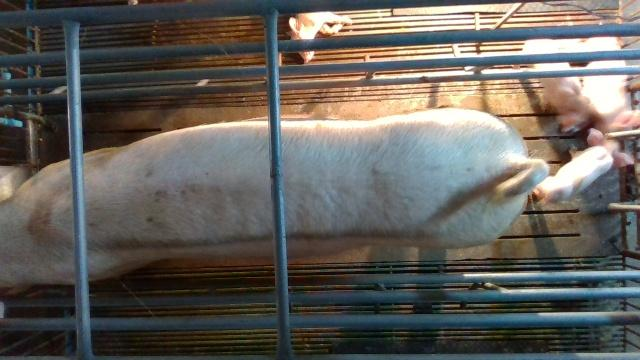piglet: (536, 128, 635, 204), (522, 40, 591, 126), (581, 36, 640, 133), (286, 12, 352, 62)
sow-stand-feed: (0, 108, 548, 289)
